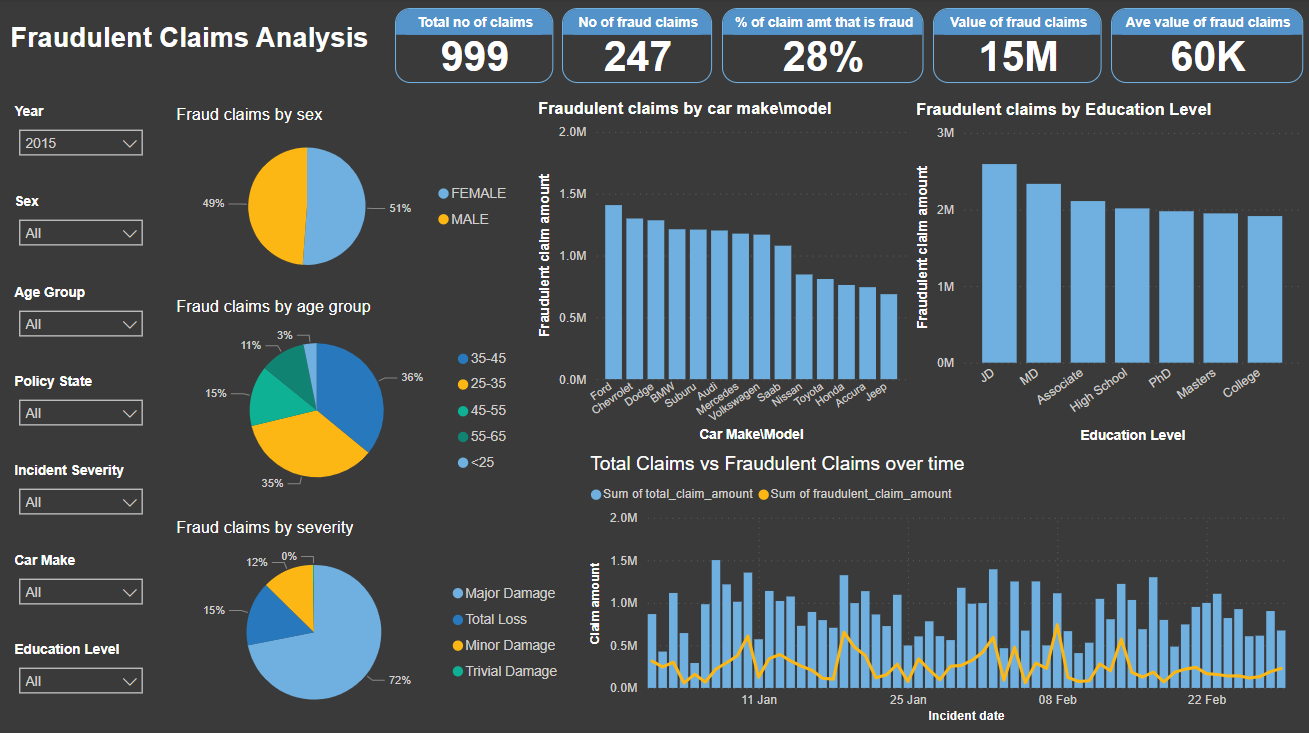

What the dashboard file says about the page in this screenshot:
{"tool":"powerbi","page":{"name":"Fraudulent Claims Analysis","canvas":[1280,720],"ordinal":0},"visuals":[{"type":"card","title":"Total no of claims","fields":{"Values":["CountNonNull(3_insurance_claims_python_processed_primary.total_claim_amount)"]},"box":[385.2,8.8,153.7,72.9],"z":0},{"type":"card","title":"No of fraud claims","fields":{"Values":["CountNonNull(3_insurance_claims_python_processed_primary.fraud_reported)"]},"box":[547.6,8.8,145.9,72.9],"z":1000},{"type":"card","title":"Ave value of fraud claims","fields":{"Values":["Avg(3_insurance_claims_python_processed_primary.fraudulent_claim_amount)"]},"box":[1081.6,8.8,186.7,72.9],"z":2000},{"type":"clusteredColumnChart","title":"Fraudulent claims by Education Level","fields":{"Y":["Sum(3_insurance_claims_python_processed_primary.fraudulent_claim_amount)"],"Category":["3_insurance_claims_python_processed_primary.insured_education_level"]},"box":[887.1,99.2,384.2,337.5],"z":3000},{"type":"lineClusteredColumnComboChart","title":"Total Claims vs Fraudulent Claims over time","fields":{"Category":["3_insurance_claims_python_processed_primary.incident_date"],"Y2":["Sum(3_insurance_claims_python_processed_primary.fraudulent_claim_amount)"],"Y":["Sum(3_insurance_claims_python_processed_primary.total_claim_amount)"]},"box":[570,441.6,701.3,267.5],"z":4000},{"type":"textbox","box":[5.8,17.5,379.3,46.7],"z":5000},{"type":"pieChart","title":"Fraud claims by age group","fields":{"Category":["3_insurance_claims_python_processed_primary.age_group"],"Y":["Sum(3_insurance_claims_python_processed_primary.fraudulent_claim_amount)"]},"box":[167.3,290.8,340.4,201.3],"z":6000},{"type":"card","title":"Value of fraud claims","fields":{"Values":["Sum(3_insurance_claims_python_processed_primary.fraudulent_claim_amount)"]},"box":[908.4,8.8,164.4,72.9],"z":7000},{"type":"pieChart","title":"Fraud claims by sex","fields":{"Category":["3_insurance_claims_python_processed_primary.insured_sex"],"Y":["Sum(3_insurance_claims_python_processed_primary.fraudulent_claim_amount)"]},"box":[167.3,104.1,340.4,178],"z":8000},{"type":"pieChart","title":"Fraud claims by severity","fields":{"Category":["3_insurance_claims_python_processed_primary.incident_severity"],"Y":["Sum(3_insurance_claims_python_processed_primary.fraudulent_claim_amount)"]},"box":[167.3,505.8,390,203.3],"z":9000},{"type":"clusteredColumnChart","title":"Fraudulent claims by car make\\model","fields":{"Category":["3_insurance_claims_python_processed_primary.auto_make","3_insurance_claims_python_processed_primary.auto_model"],"Y":["Sum(3_insurance_claims_python_processed_primary.fraudulent_claim_amount)"]},"box":[519.4,98.2,367.7,337.5],"z":10000},{"type":"slicer","title":"Policy State","fields":{"Values":["3_insurance_claims_python_processed_primary.policy_state"]},"box":[9.7,364.7,140.1,53.5],"z":11000},{"type":"slicer","title":"Sex","fields":{"Values":["3_insurance_claims_python_processed_primary.insured_sex"]},"box":[9.7,190,140.1,54.5],"z":12000},{"type":"slicer","title":"Age Group","fields":{"Values":["3_insurance_claims_python_processed_primary.age_group"]},"box":[9.7,277.8,140.1,53.5],"z":13000},{"type":"slicer","title":"Year","fields":{"Values":["3_insurance_claims_python_processed_primary.incident_year"]},"box":[9.7,102.1,140.1,54.5],"z":14000},{"type":"slicer","title":"Incident Severity","fields":{"Values":["3_insurance_claims_python_processed_primary.incident_severity"]},"box":[9.7,451.6,140.1,53.5],"z":15000},{"type":"slicer","title":"Car Make","fields":{"Values":["3_insurance_claims_python_processed_primary.auto_make"]},"box":[9.7,538.5,140.1,53.5],"z":16000},{"type":"slicer","title":"Education Level","fields":{"Values":["3_insurance_claims_python_processed_primary.insured_education_level"]},"box":[9.7,625.4,140.1,53.5],"z":17000},{"type":"card","title":"% of claim amt that is fraud","fields":{"Values":["3_insurance_claims_python_processed_primary.PercentageFraudulentClaims"]},"box":[703.2,8.8,196.5,72.9],"z":18000}]}

Visuals, with their boxes in screenshot pixels (x1, y1, x2, y2), scaled from the page's 1280x720 canvas onto the 1309x733 screenshot:
"Total no of claims" card: <bbox>394, 9, 551, 83</bbox>
"No of fraud claims" card: <bbox>560, 9, 709, 83</bbox>
"Ave value of fraud claims" card: <bbox>1106, 9, 1297, 83</bbox>
"Fraudulent claims by Education Level" clusteredColumnChart: <bbox>907, 101, 1300, 445</bbox>
"Total Claims vs Fraudulent Claims over time" lineClusteredColumnComboChart: <bbox>583, 450, 1300, 722</bbox>
textbox: <bbox>6, 18, 394, 65</bbox>
"Fraud claims by age group" pieChart: <bbox>171, 296, 519, 501</bbox>
"Value of fraud claims" card: <bbox>929, 9, 1097, 83</bbox>
"Fraud claims by sex" pieChart: <bbox>171, 106, 519, 287</bbox>
"Fraud claims by severity" pieChart: <bbox>171, 515, 570, 722</bbox>
"Fraudulent claims by car make\model" clusteredColumnChart: <bbox>531, 100, 907, 444</bbox>
"Policy State" slicer: <bbox>10, 371, 153, 426</bbox>
"Sex" slicer: <bbox>10, 193, 153, 249</bbox>
"Age Group" slicer: <bbox>10, 283, 153, 337</bbox>
"Year" slicer: <bbox>10, 104, 153, 159</bbox>
"Incident Severity" slicer: <bbox>10, 460, 153, 514</bbox>
"Car Make" slicer: <bbox>10, 548, 153, 603</bbox>
"Education Level" slicer: <bbox>10, 637, 153, 691</bbox>
"% of claim amt that is fraud" card: <bbox>719, 9, 920, 83</bbox>
